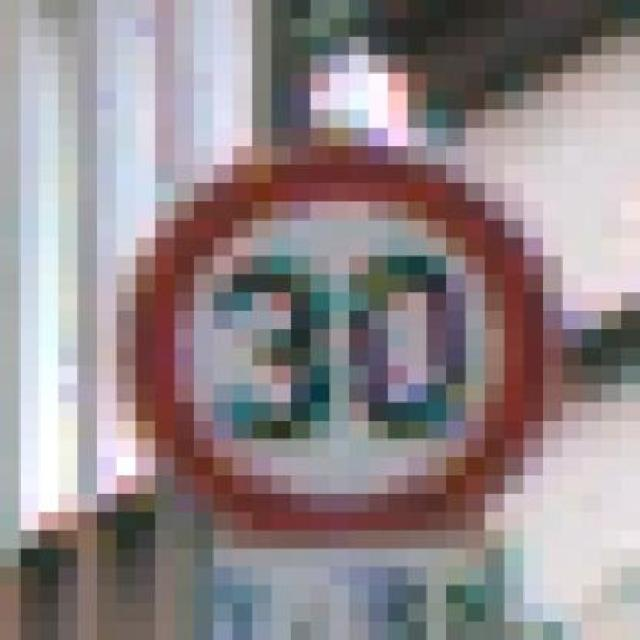forb_speed_over_30: (130, 154, 538, 535)
